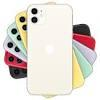Smartphone: (2, 33, 90, 76), (29, 6, 70, 95)
